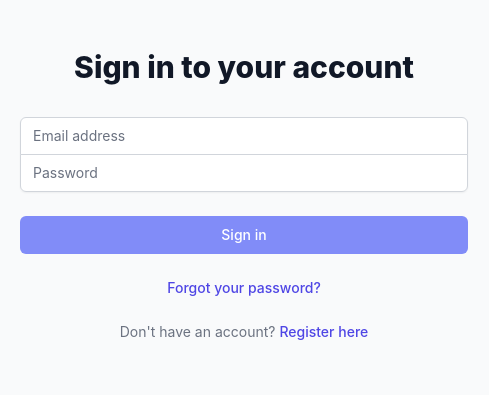
Test: LoginForm › shows generic error on invalid credentials and keeps form values
The width and height of the screenshot is (489, 395).
Type "user@example.com" into the field labelled "Email address".
click(244, 136); type("user@example.com")  # box [20,116,468,154]
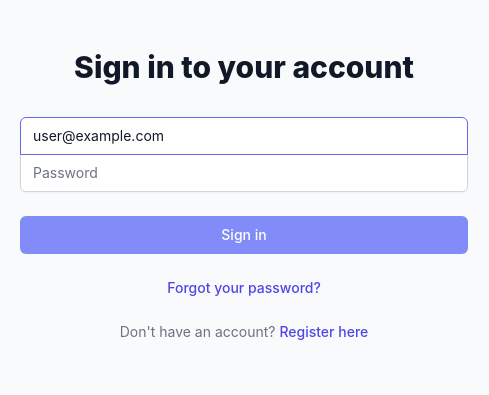
Type "password123" into the password field labelled "Password".
click(244, 172); type("password123")  # box [20,154,468,192]
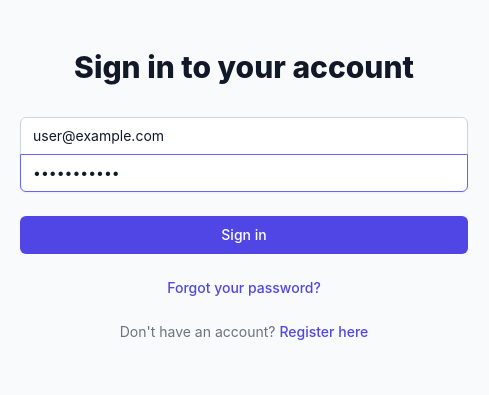
Click the button "Sign in".
click(244, 234)  # box [20,216,468,254]
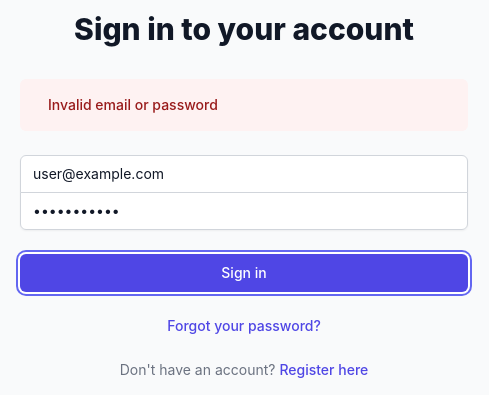
Expected: the text "Invalid email or password" is shown, [48,94,218,114]
